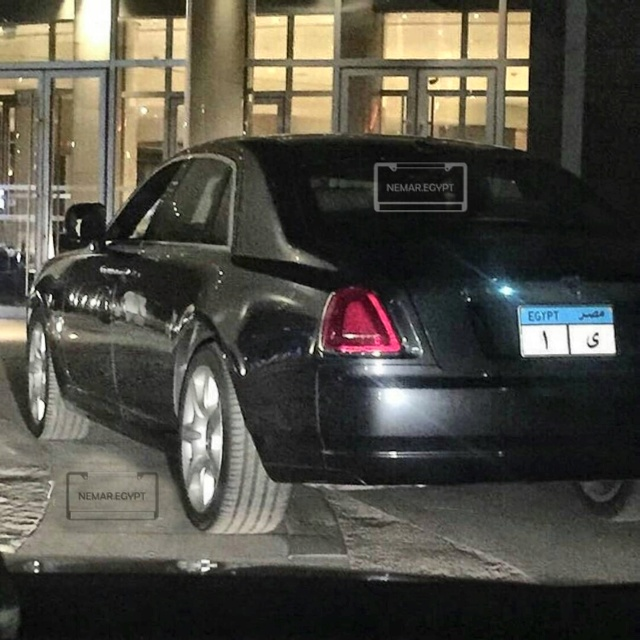License Plate: (515, 302, 620, 360)
